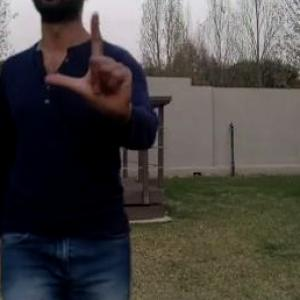land_hand: (40, 6, 140, 124)
